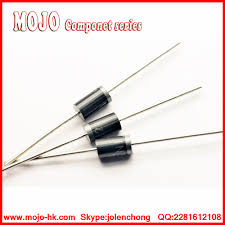diode: (89, 135, 144, 175), (61, 80, 115, 120)
